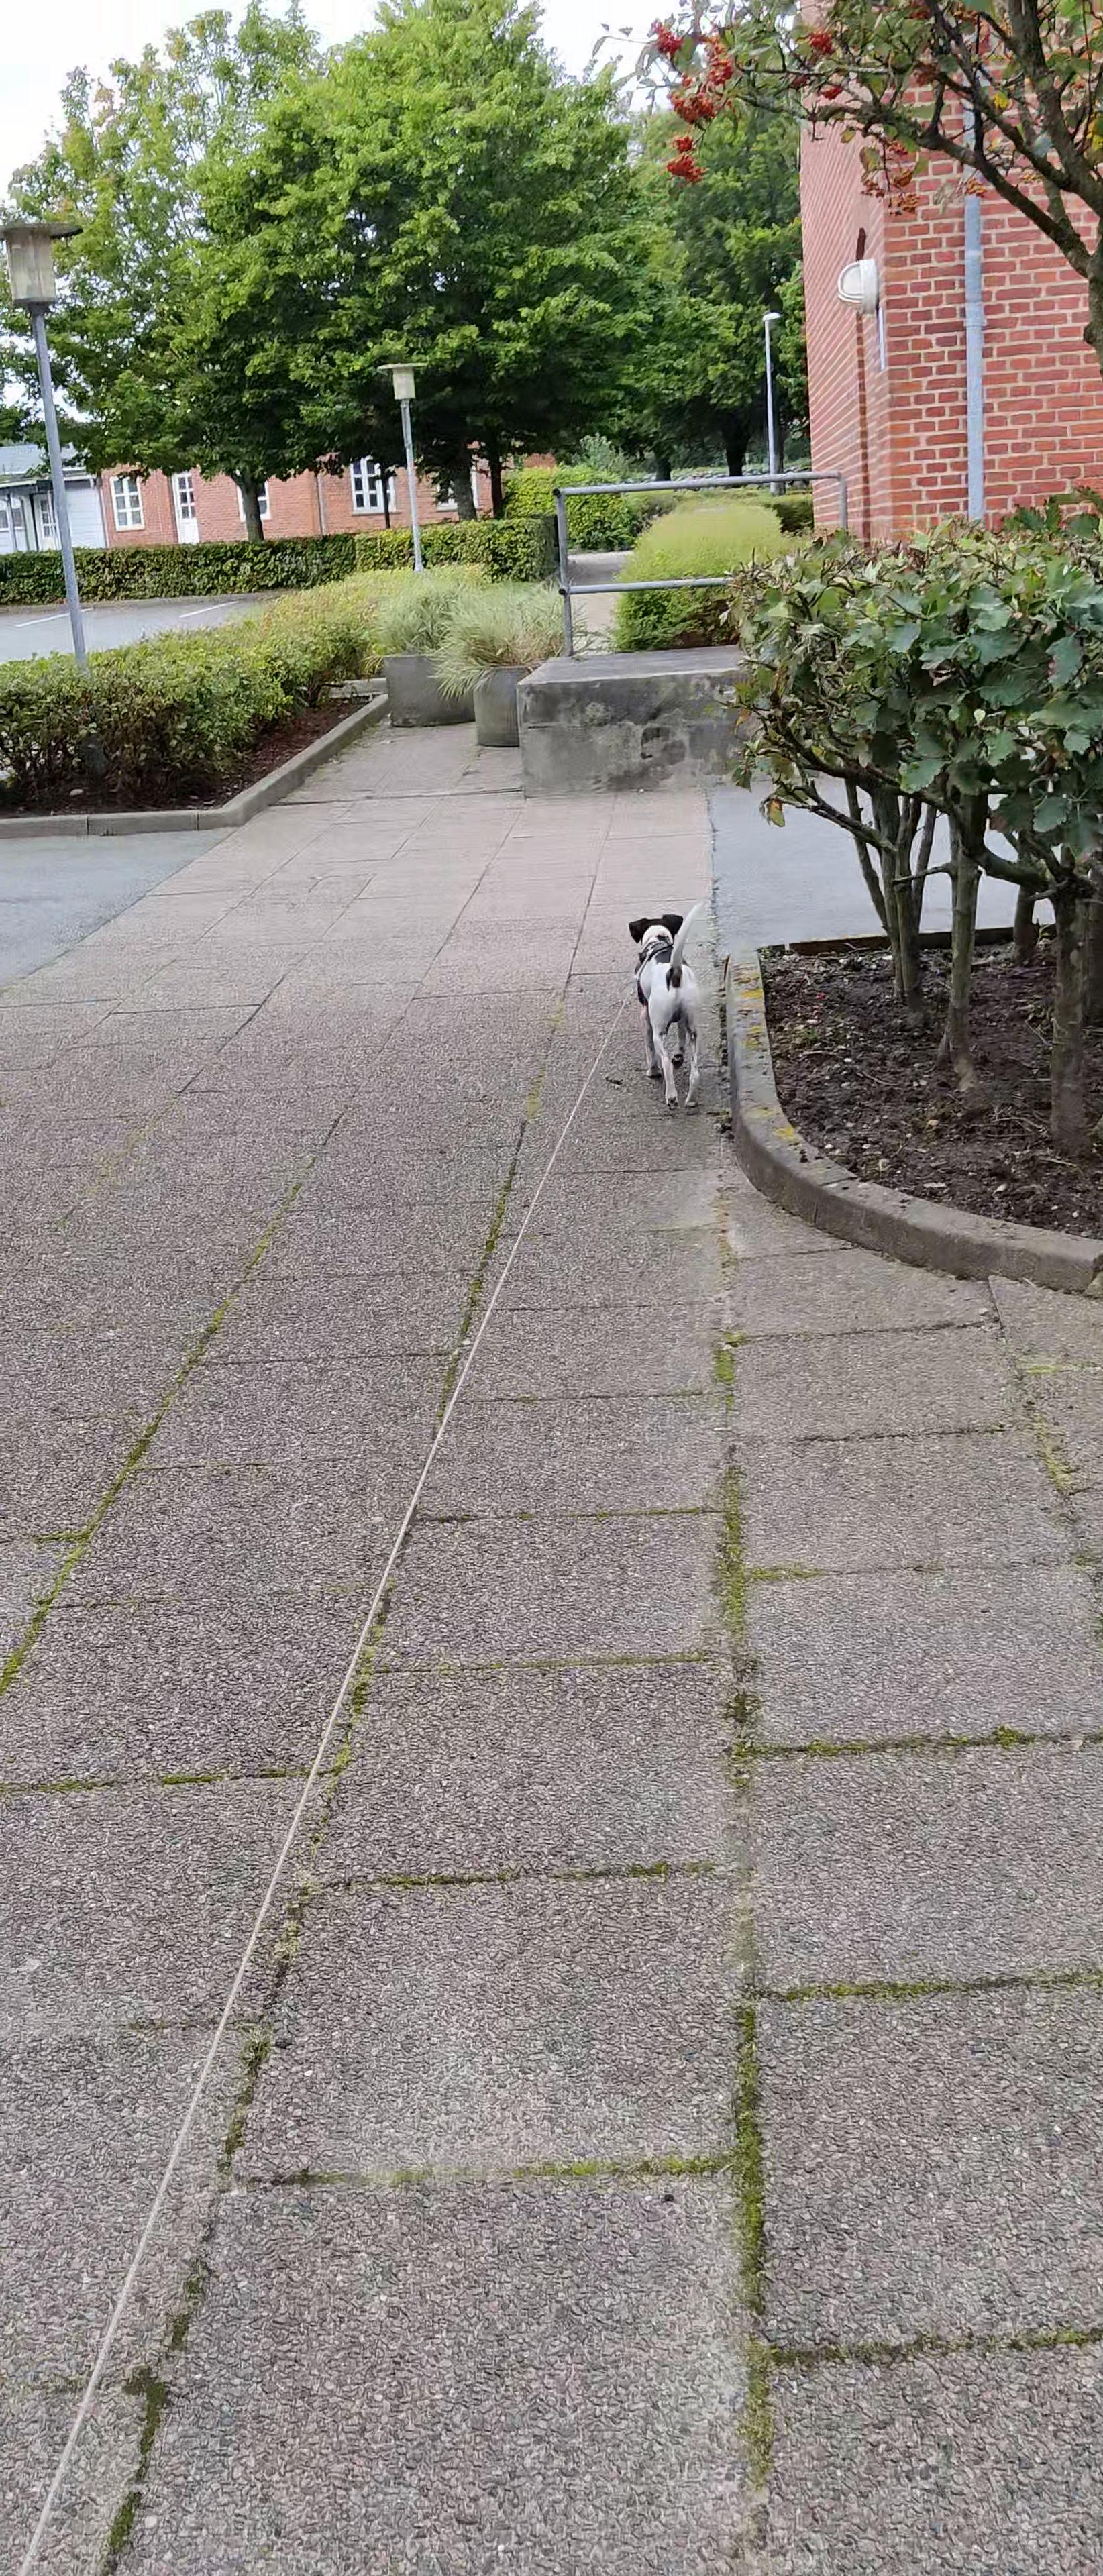Dog: (625, 897, 708, 1119)
